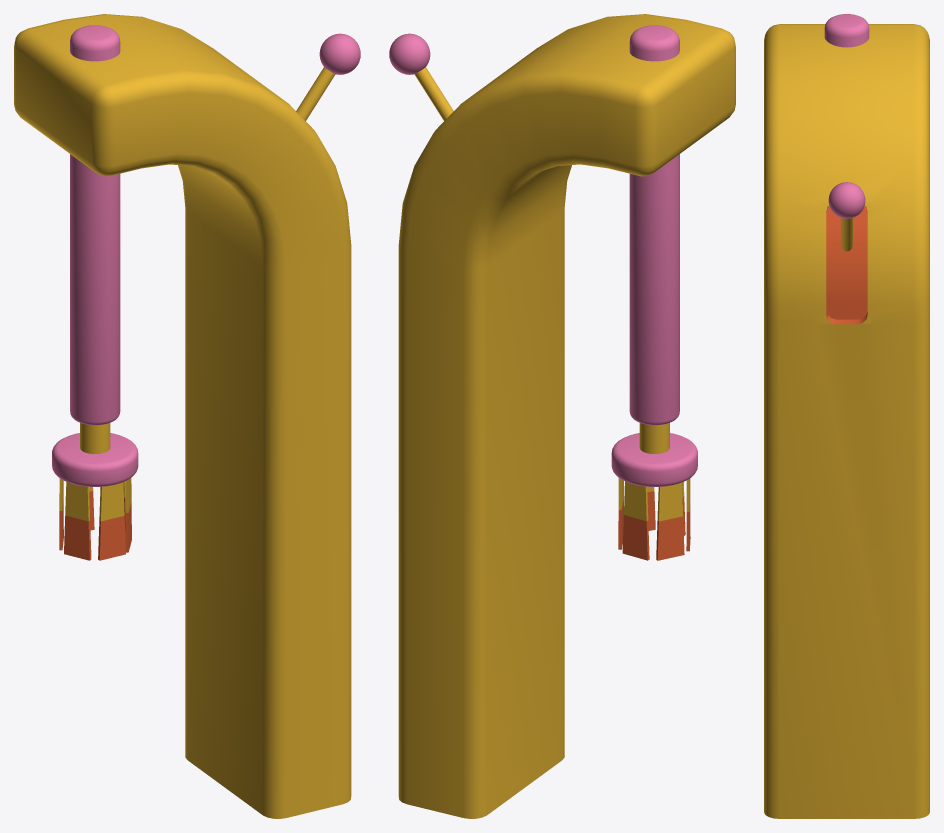
Rendered from makina3.fbx.
3 renders of one model, left to right at view 1: azimuth 30°, elevation 25°; view 2: azimuth 150°, elevation 25°; view 3: azimuth 270°, elevation 25°, orthographic. The views are drawn at different scales.
Visible parts, largest first — view 1: govde.002, CylinderKol, CylinderKol2, kol, uc, uc.001; view 2: govde.002, CylinderKol, CylinderKol2, kol, uc.002, uc.003; view 3: govde.002, kol, CylinderKol.
Part boxes in pixels (x1,y1,x2,y2): govde.002: (14, 14, 351, 818); CylinderKol: (70, 25, 120, 425); CylinderKol2: (52, 423, 138, 486); kol: (296, 33, 360, 120); uc: (98, 482, 125, 560); uc.001: (64, 482, 91, 560); govde.002: (398, 14, 735, 818); CylinderKol: (629, 25, 679, 425); CylinderKol2: (611, 423, 697, 486); kol: (389, 33, 453, 120); uc.002: (656, 482, 684, 560); uc.003: (622, 481, 649, 560); govde.002: (764, 24, 929, 818); kol: (828, 182, 865, 251); CylinderKol: (824, 14, 869, 47).
Size of the model in its own units: 141 by 348 by 74.2.
